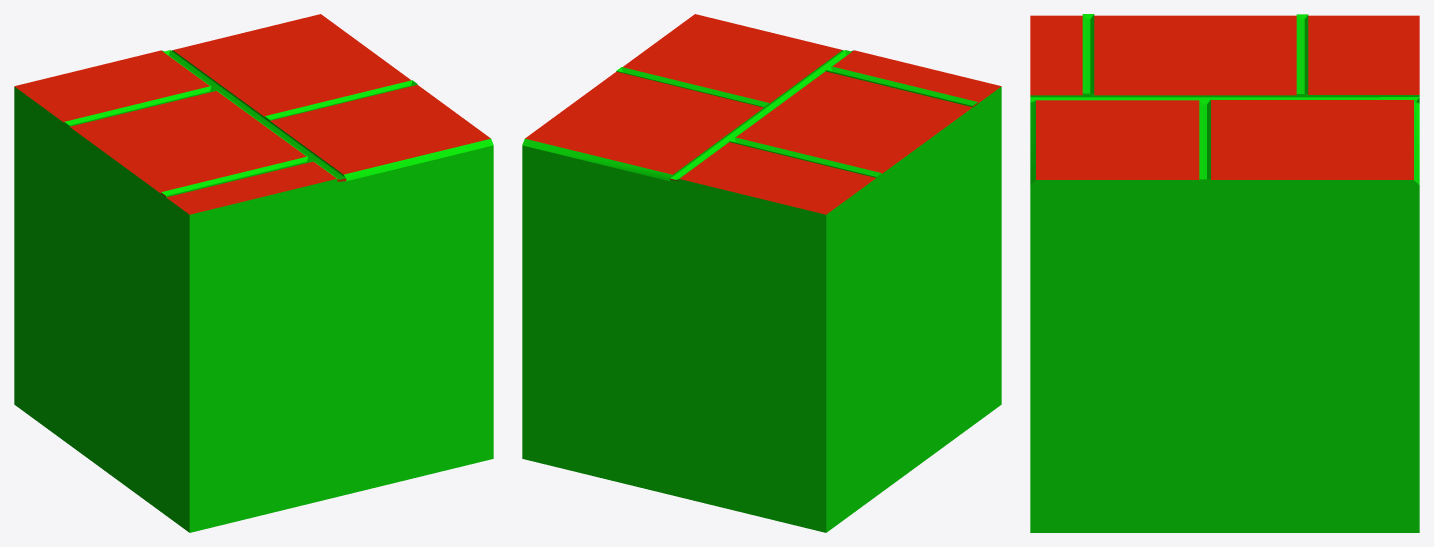
3 renders of one model, left to right at view 1: azimuth 30°, elevation 25°; view 2: azimuth 150°, elevation 25°; view 3: azimuth 270°, elevation 25°, orthographic. The views are drawn at different scales.
Parts seen in each view (by area): view 1: Cube; view 2: Cube; view 3: Cube.
Part boxes in pixels (x1=…): Cube: x1=14, y1=14, x2=493, y2=532; Cube: x1=522, y1=14, x2=1001, y2=532; Cube: x1=1030, y1=14, x2=1419, y2=532.
Size of the model in its own units: 400 by 402 by 400.
